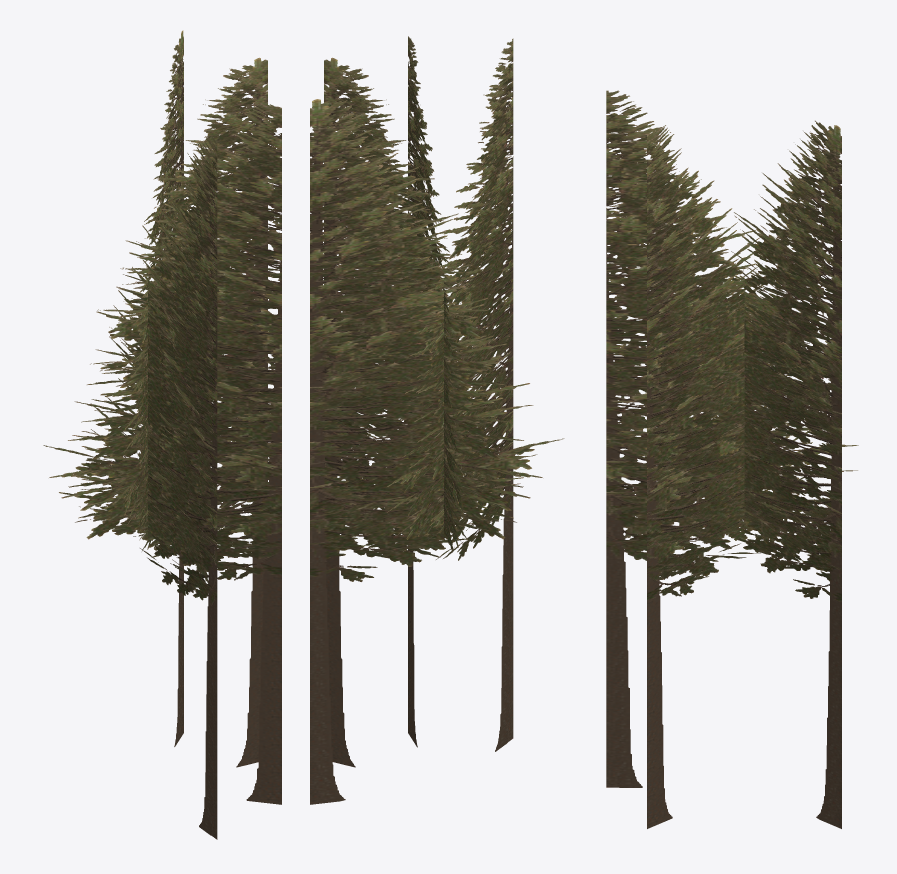
Rendered from fir_giant_a_lod6_cross.gltf.
3 renders of one model, left to right at view 1: azimuth 30°, elevation 25°; view 2: azimuth 150°, elevation 25°; view 3: azimuth 270°, elevation 25°, orthographic.
Parts seen in each view (by area): view 1: fir_giant_a_LOD6; view 2: fir_giant_a_LOD6; view 3: fir_giant_a_LOD6.
Part boxes in pixels (box(x1,y1,x2,y2)): fir_giant_a_LOD6: box(43, 30, 281, 839); fir_giant_a_LOD6: box(310, 36, 564, 804); fir_giant_a_LOD6: box(606, 90, 858, 828).
Size of the model in its own units: 14.48 by 42.21 by 14.48.
1 material, 1 textured.
